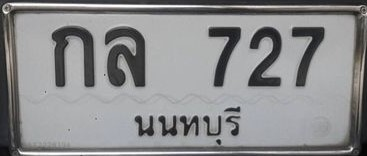txt01: (50, 24, 97, 89)
txt31: (103, 25, 147, 88)
